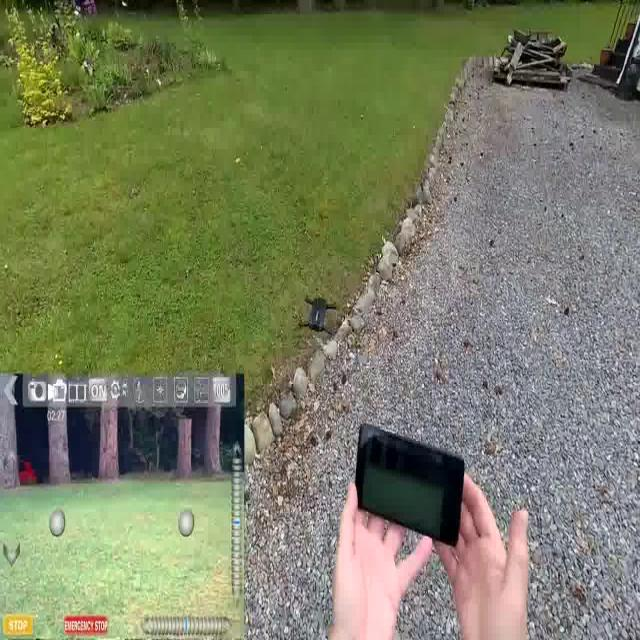drone: (298, 294, 338, 338)
